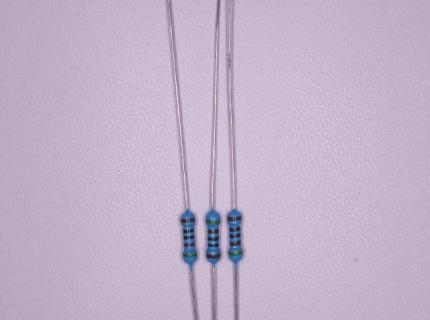Black band: (229, 226, 241, 232), (207, 236, 219, 241), (229, 233, 241, 238), (183, 229, 194, 234), (183, 236, 195, 240), (207, 243, 219, 247)
Brown band: (206, 253, 221, 259), (227, 216, 242, 222), (230, 240, 242, 246), (181, 218, 195, 223), (207, 229, 219, 234), (184, 243, 195, 247)
Green band: (206, 219, 220, 225), (182, 253, 198, 258), (228, 251, 243, 256)
